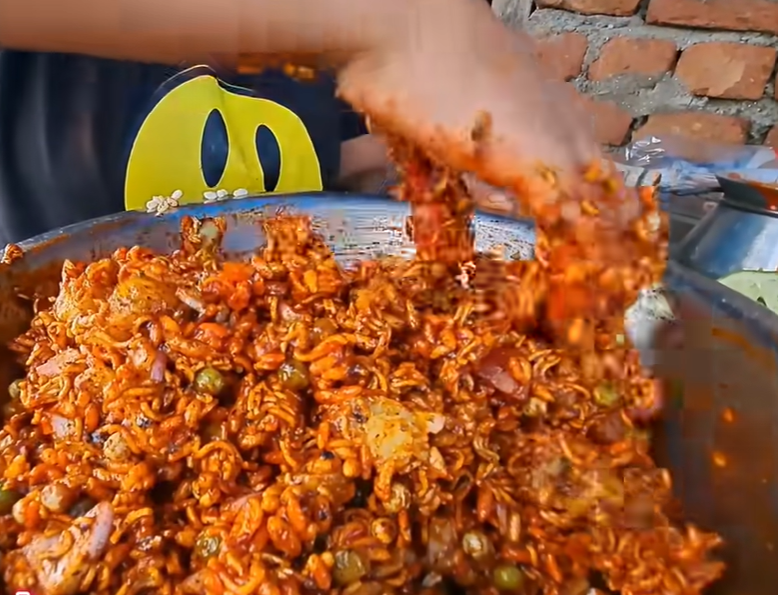chatpate: (51, 241, 656, 583)
